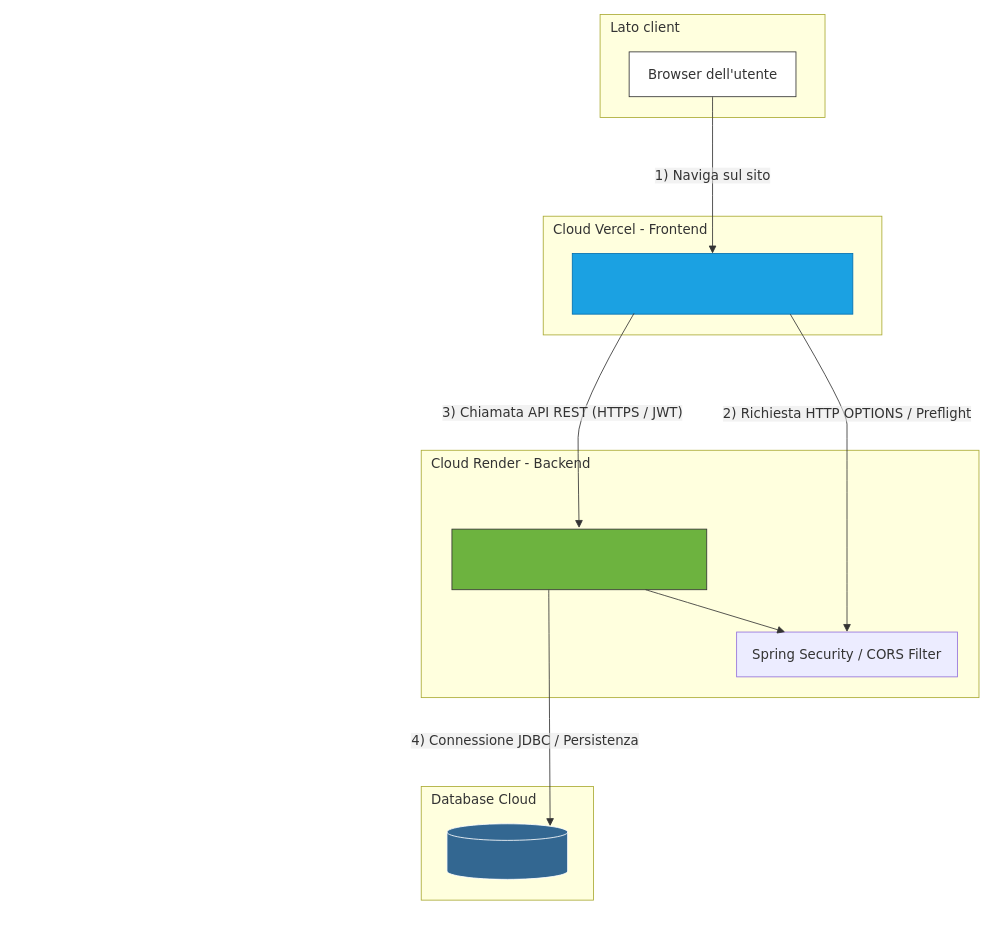
Image size: 994x931. Some labels were removed from this diagram. Here are the shapes that lost their labels. From the top down, the centre of each, then its label:
At pixel 712 283: "Applicazione React https://bug-board26-sigma.vercel.app".
At pixel 579 559: "Server Spring Boot REST API https://bugboard26.onrender.com".
At pixel 507 851: "PostgreSQL Database".
